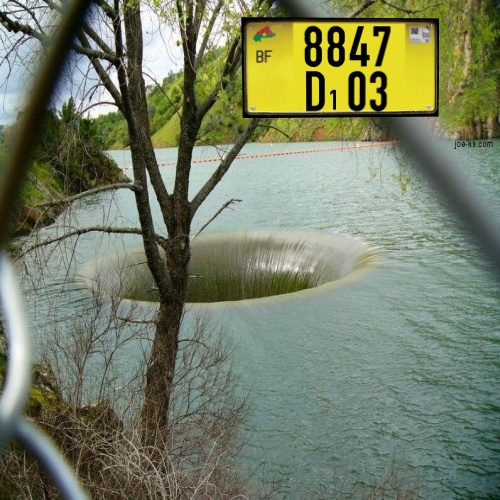plate: (233, 11, 454, 128)
